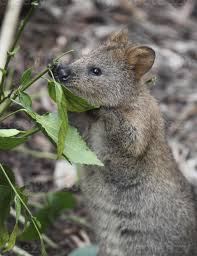quokka: (57, 28, 192, 256)
